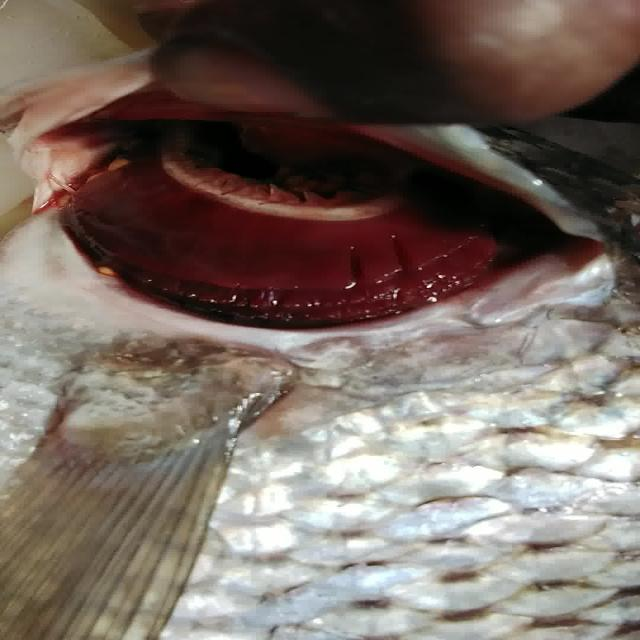Fresh: (38, 113, 578, 349)
